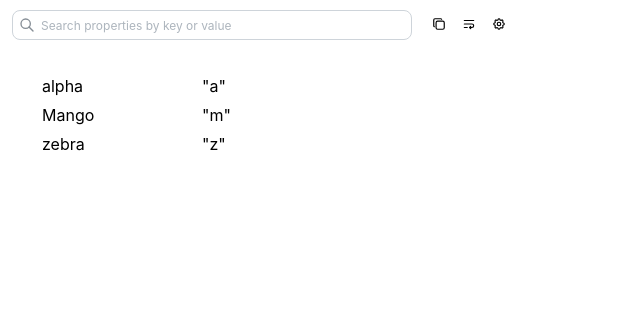
Test: DBRowJsonViewer key order › sorts alphabetically when stored options predate the setting
The width and height of the screenshot is (636, 309).
Click the button with test id "json-viewer-options-menu": (499, 25) [492,13,506,37]
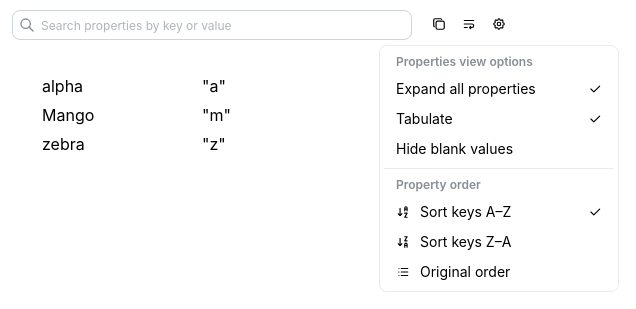
Check: the menu is shown, box [379,45,619,292]
Check: the 7th icon is shown, box [588,205,602,219]
